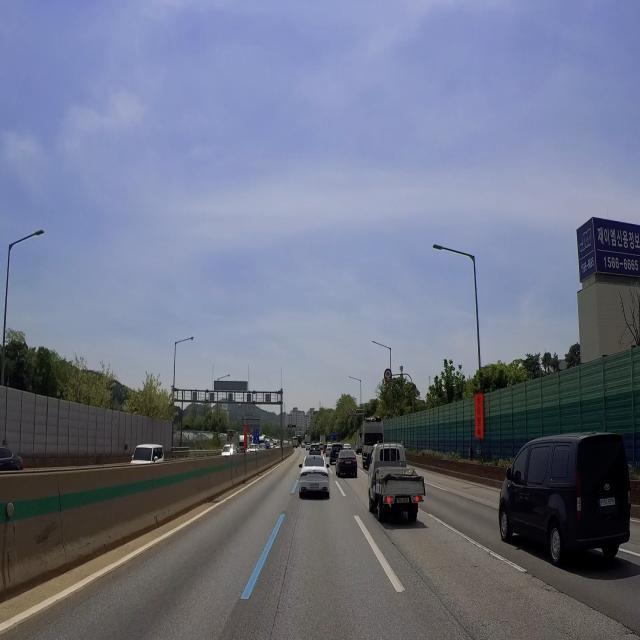car: (596, 493, 618, 516), (396, 497, 410, 504), (309, 482, 320, 490), (344, 459, 353, 466)
